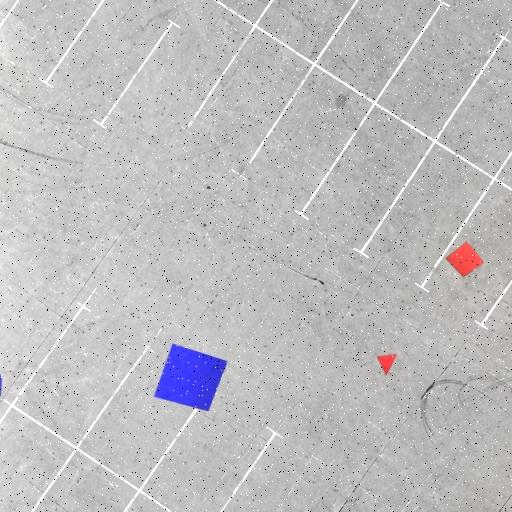BLUE_SQUARE: (154, 343, 228, 412)
RED_SQUARE: (445, 240, 484, 278)
